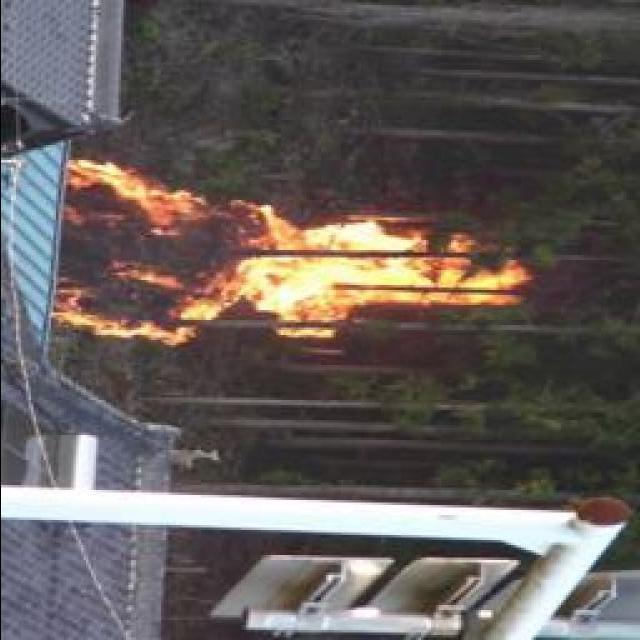Fire: (56, 169, 536, 349)
